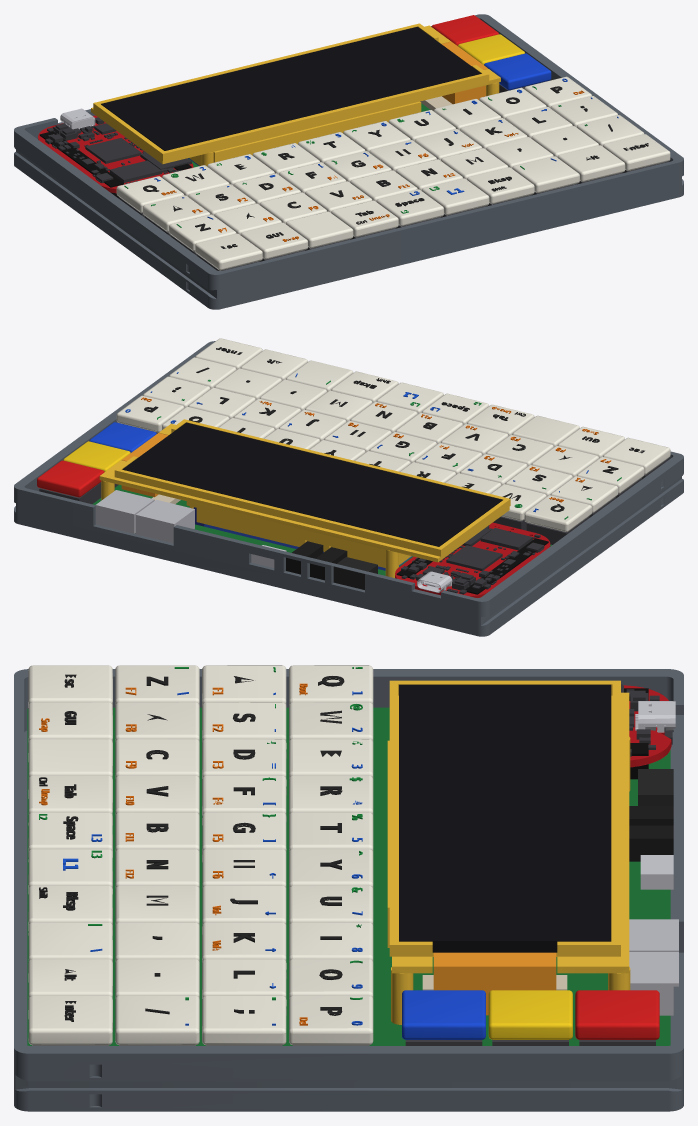
The model's file is open_slate.glb.
The picture shows the model from 3 angles, top to bottom: view 1: azimuth 30°, elevation 25°; view 2: azimuth 150°, elevation 25°; view 3: azimuth 270°, elevation 25°; orthographic projection. The views are drawn at different scales.
Parts seen in each view (by area): view 1: Internals, Tray; view 2: Internals, Tray; view 3: Internals, Tray.
Boxes of the visible parts, box(x1,y1,x2,y2) form: Internals: box(38, 15, 670, 270); Tray: box(14, 14, 683, 309); Internals: box(37, 338, 670, 597); Tray: box(14, 341, 683, 636); Internals: box(27, 665, 678, 1045); Tray: box(14, 669, 683, 1111).
Size of the model in its own units: 0.1782 by 0.0211 by 0.1312.
